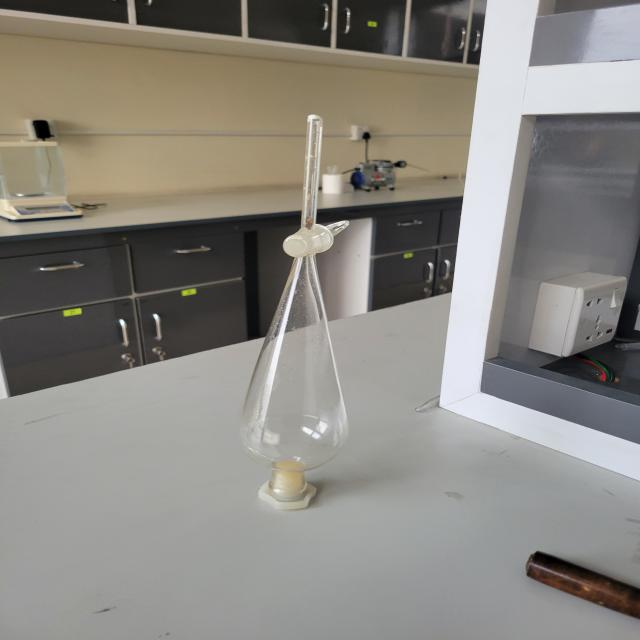Separating_Funnel: (240, 84, 384, 524)
